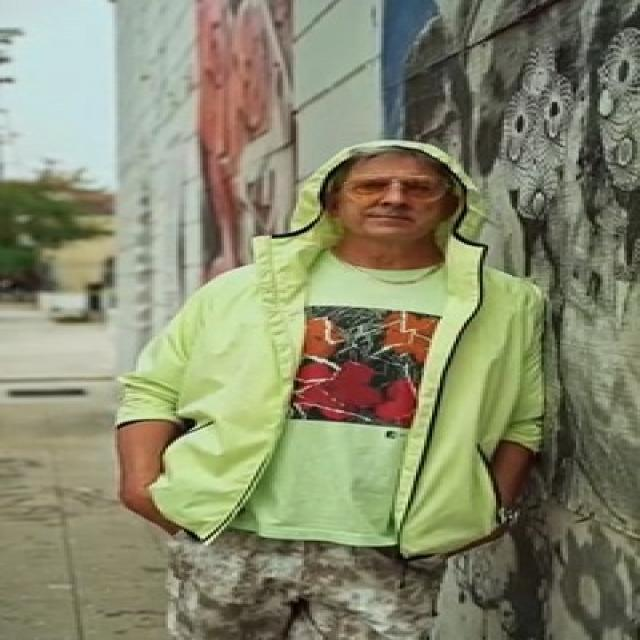Jacket_Wearer: (125, 231, 582, 522)
Person: (100, 127, 581, 640)
